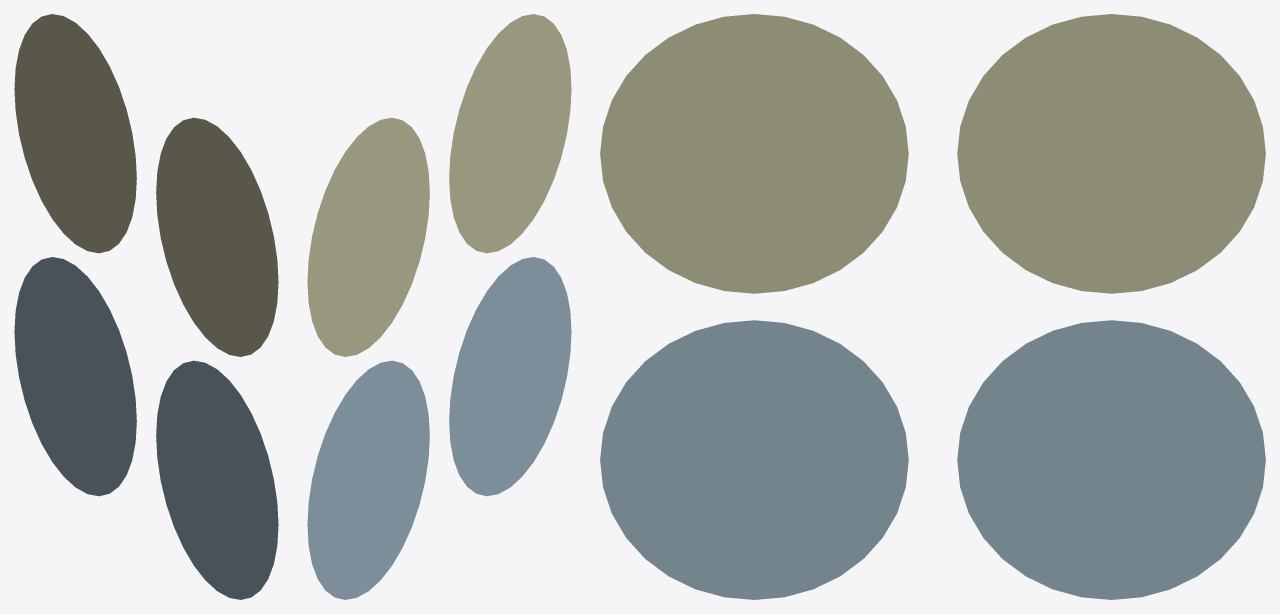
File: WinLight_Driver.dae
3 renders of one model, left to right at view 1: azimuth 30°, elevation 25°; view 2: azimuth 150°, elevation 25°; view 3: azimuth 270°, elevation 25°, orthographic. The views are drawn at different scales.
Parts seen in each view (by area): view 1: winLightDriver; view 2: winLightDriver; view 3: winLightDriver.
Boxes of the visible parts, x1,y1,x2,y2 form: winLightDriver: [14, 14, 278, 599]; winLightDriver: [307, 14, 571, 599]; winLightDriver: [600, 14, 1265, 599].
Bounding box in the file's own units: 1.79e-07 × 0.3534 × 0.3432.
